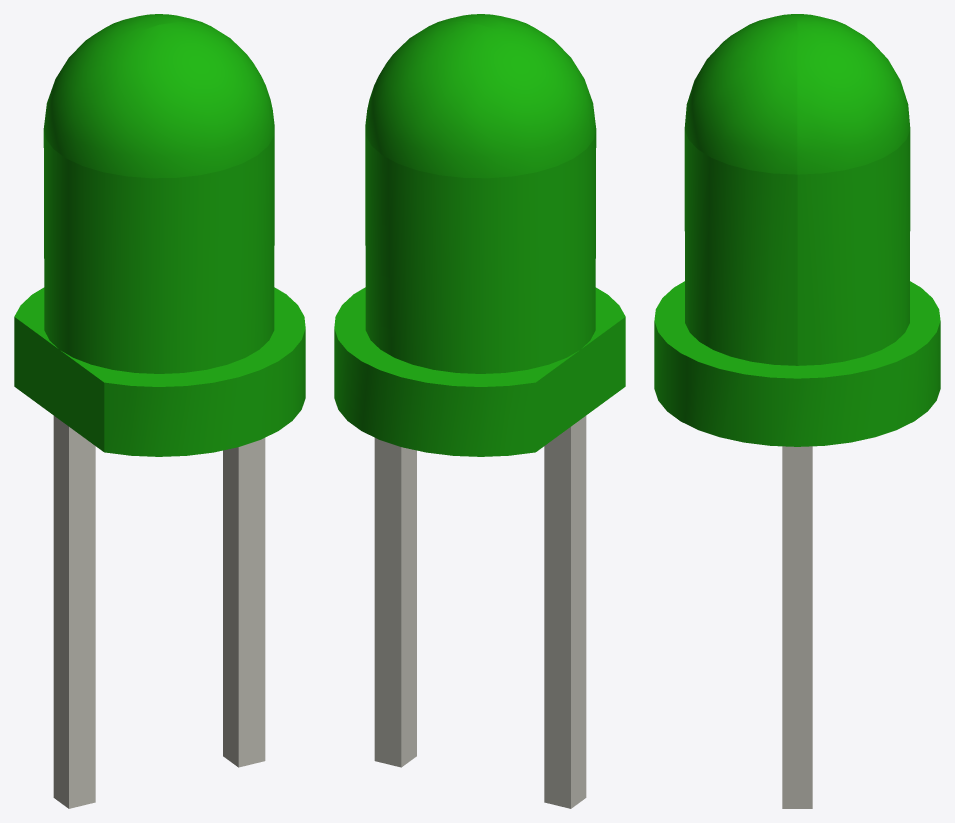
Rendered from kc-led_d3.0mm_green.glb.
3 renders of one model, left to right at view 1: azimuth 30°, elevation 25°; view 2: azimuth 150°, elevation 25°; view 3: azimuth 270°, elevation 25°, orthographic. The views are drawn at different scales.
Visible parts, largest first — view 1: 0_0.4166666666666667_0_0, 0.6666666666666666_0.6666666666666666_0.5833333333333334_0.8; view 2: 0_0.4166666666666667_0_0, 0.6666666666666666_0.6666666666666666_0.5833333333333334_0.8; view 3: 0_0.4166666666666667_0_0, 0.6666666666666666_0.6666666666666666_0.5833333333333334_0.8.
Boxes of the visible parts, x1,y1,x2,y2 form: 0_0.4166666666666667_0_0: [14, 14, 305, 456]; 0.6666666666666666_0.6666666666666666_0.5833333333333334_0.8: [53, 416, 265, 808]; 0_0.4166666666666667_0_0: [334, 14, 625, 456]; 0.6666666666666666_0.6666666666666666_0.5833333333333334_0.8: [374, 416, 586, 808]; 0_0.4166666666666667_0_0: [654, 14, 940, 446]; 0.6666666666666666_0.6666666666666666_0.5833333333333334_0.8: [782, 446, 812, 808].
Bounding box in the file's own units: 0.34 × 1.08 × 0.3796.
